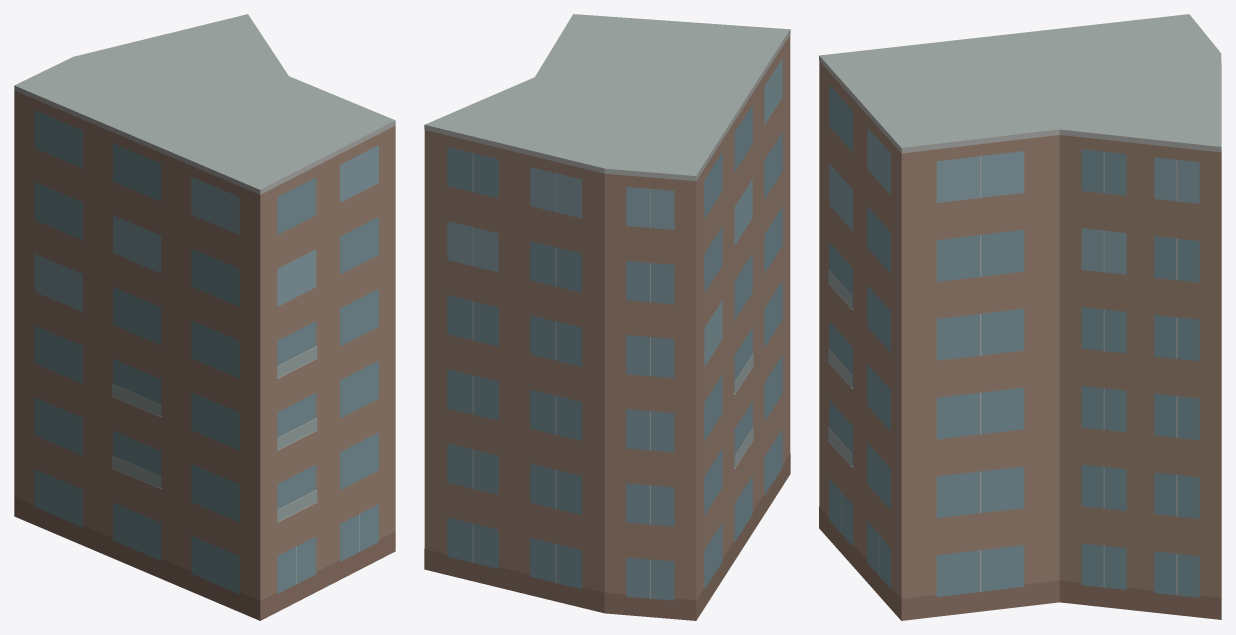
File: survey-upis-32824775.glb
The picture shows the model from 3 angles, left to right: view 1: azimuth 30°, elevation 25°; view 2: azimuth 150°, elevation 25°; view 3: azimuth 270°, elevation 25°; orthographic projection. The views are drawn at different scales.
Visible parts, largest first — view 1: survey-upis-32824775.tmp; view 2: survey-upis-32824775.tmp; view 3: survey-upis-32824775.tmp.
Boxes of the visible parts, x1,y1,x2,y2 form: survey-upis-32824775.tmp: (14, 14, 395, 620); survey-upis-32824775.tmp: (424, 14, 790, 620); survey-upis-32824775.tmp: (819, 14, 1221, 620).
Size of the model in its own units: 12.93 by 21.25 by 16.4.
